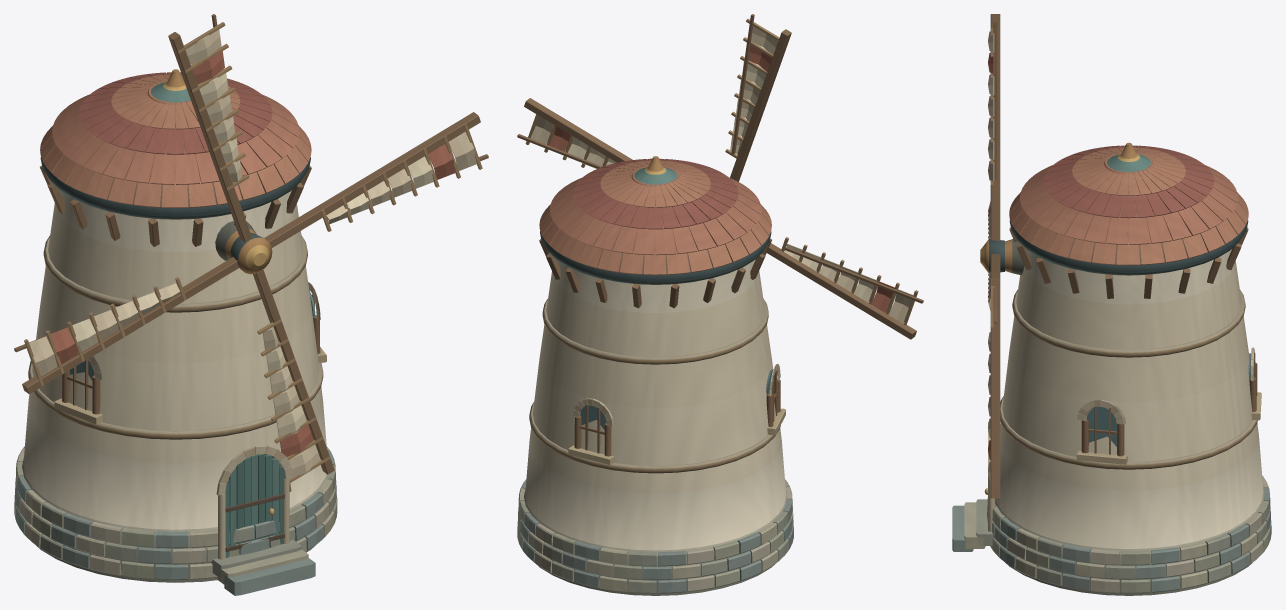
The model's file is windmill.glb.
The picture shows the model from 3 angles, left to right: view 1: azimuth 30°, elevation 25°; view 2: azimuth 150°, elevation 25°; view 3: azimuth 270°, elevation 25°; orthographic projection. The views are drawn at different scales.
Visible parts, largest first — view 1: MillTower, SailWheel; view 2: MillTower, SailWheel; view 3: MillTower, SailWheel.
Boxes of the visible parts, x1,y1,x2,y2 form: MillTower: (14,69,337,595); SailWheel: (14,14,488,491); MillTower: (517,156,793,595); SailWheel: (517,14,923,339); MillTower: (952,142,1271,595); SailWheel: (980,14,1004,498).
Size of the model in its own units: 9.49 by 10.86 by 6.29.
Materials: 1 (1 with a texture image).
